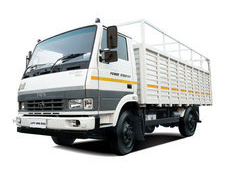truck: (11, 9, 217, 162)
